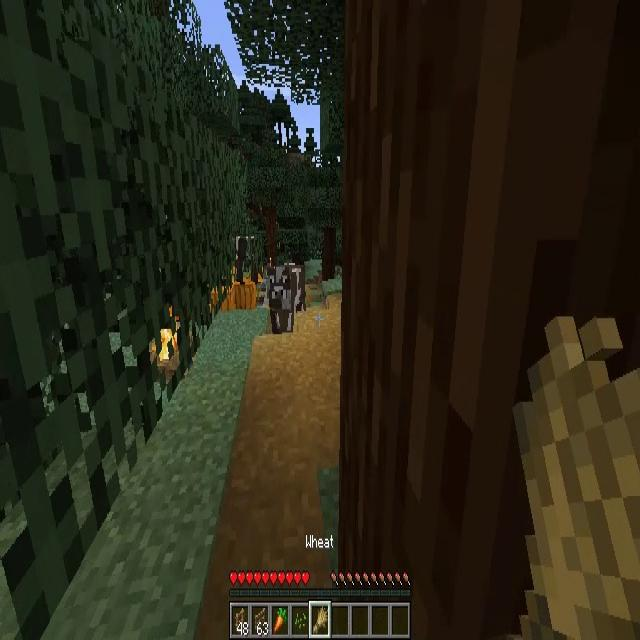cow: (270, 264, 307, 334), (235, 234, 263, 282)
